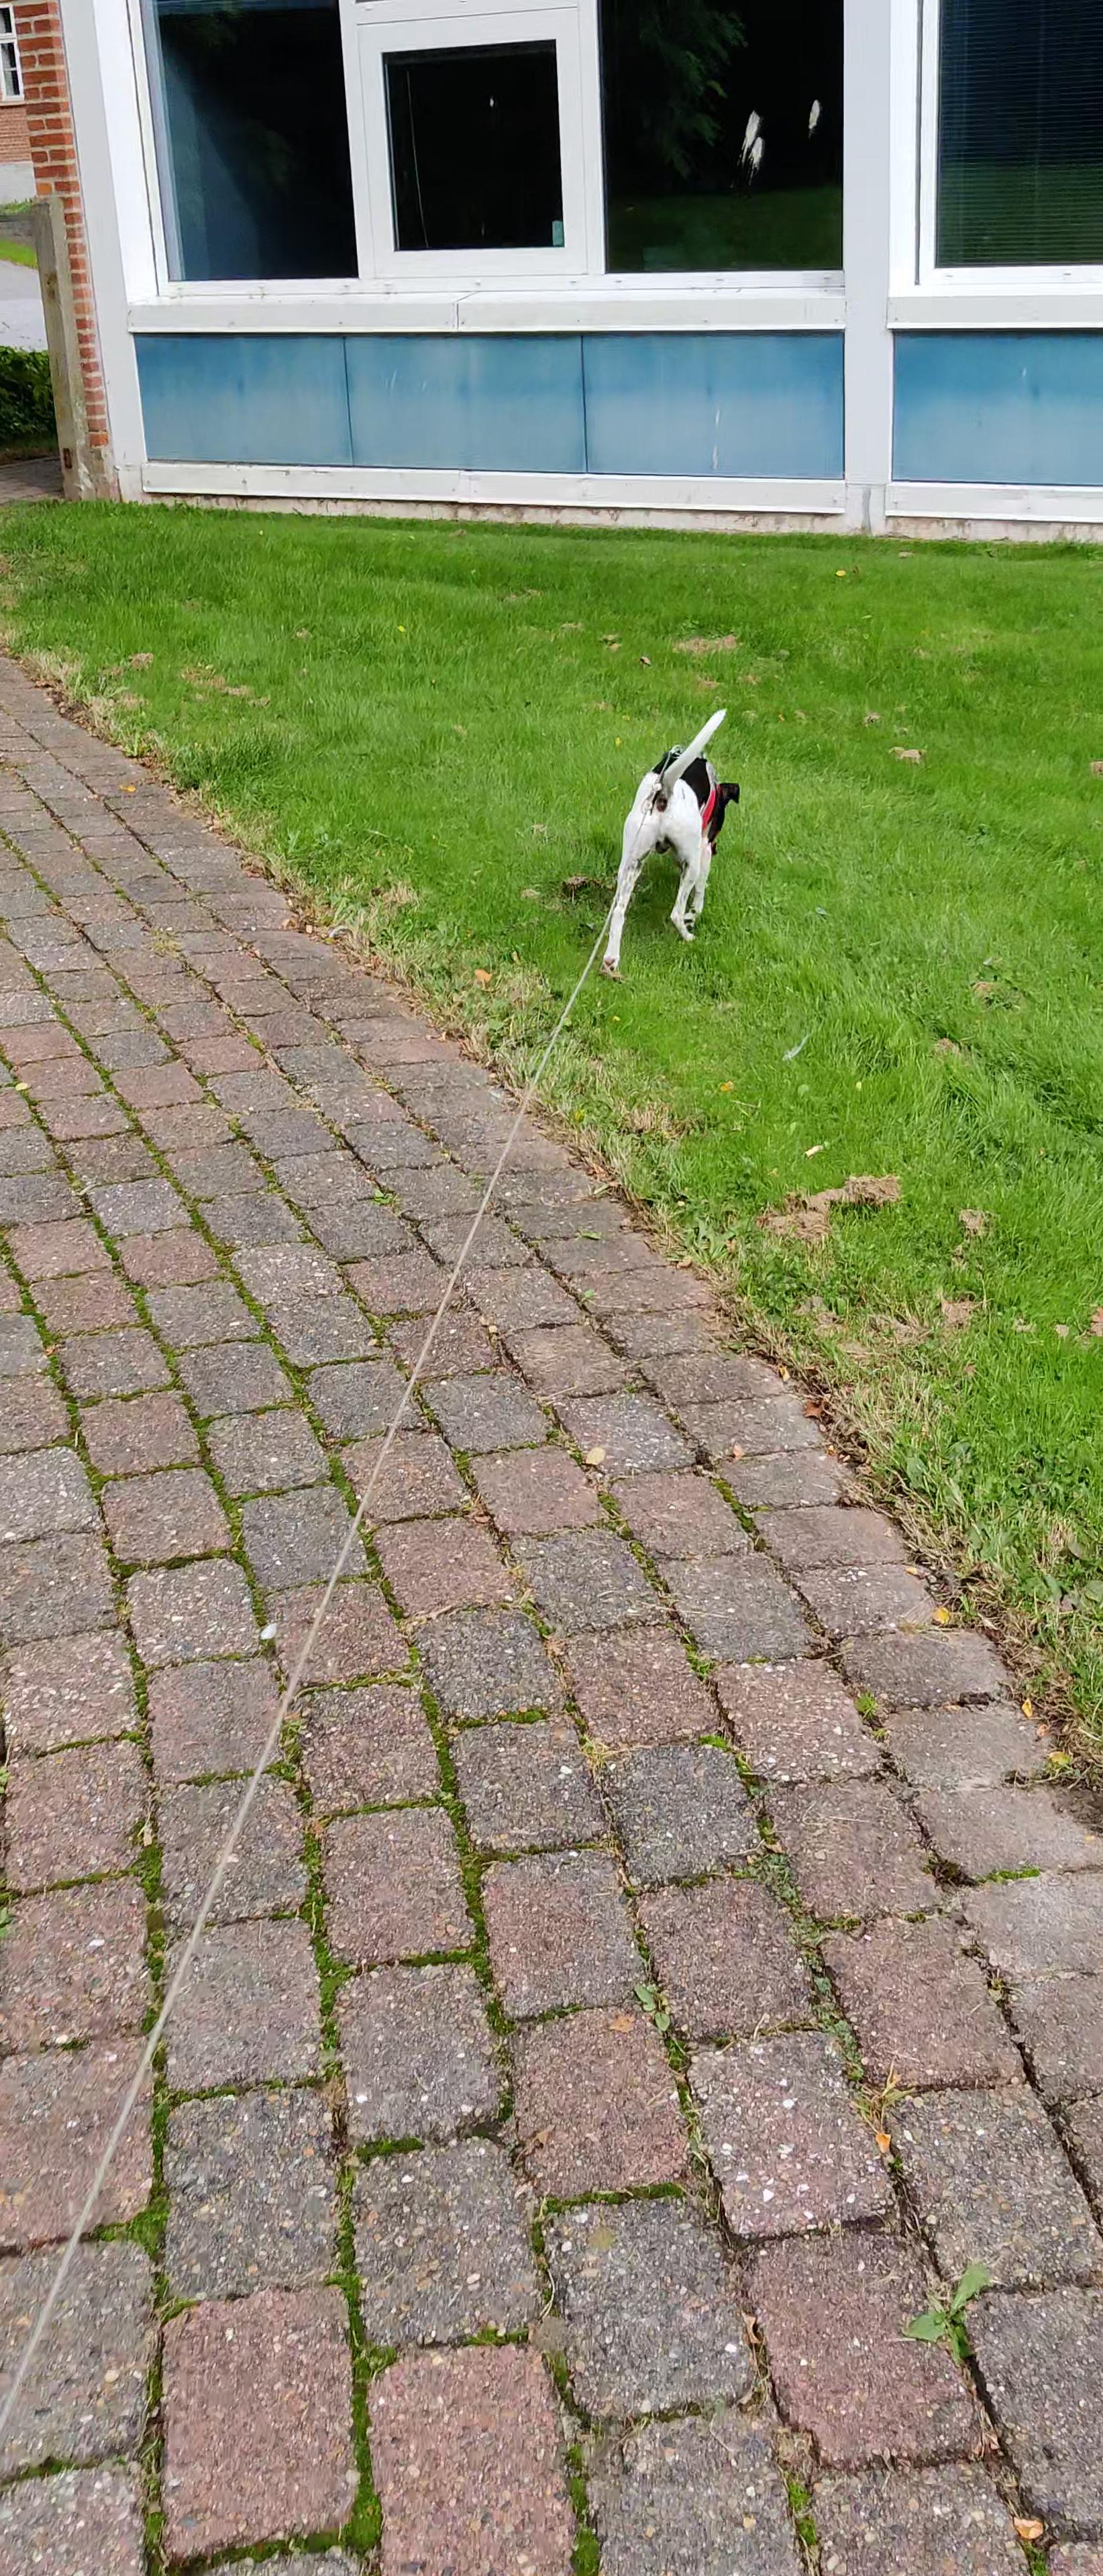Dog: (592, 701, 745, 982)
